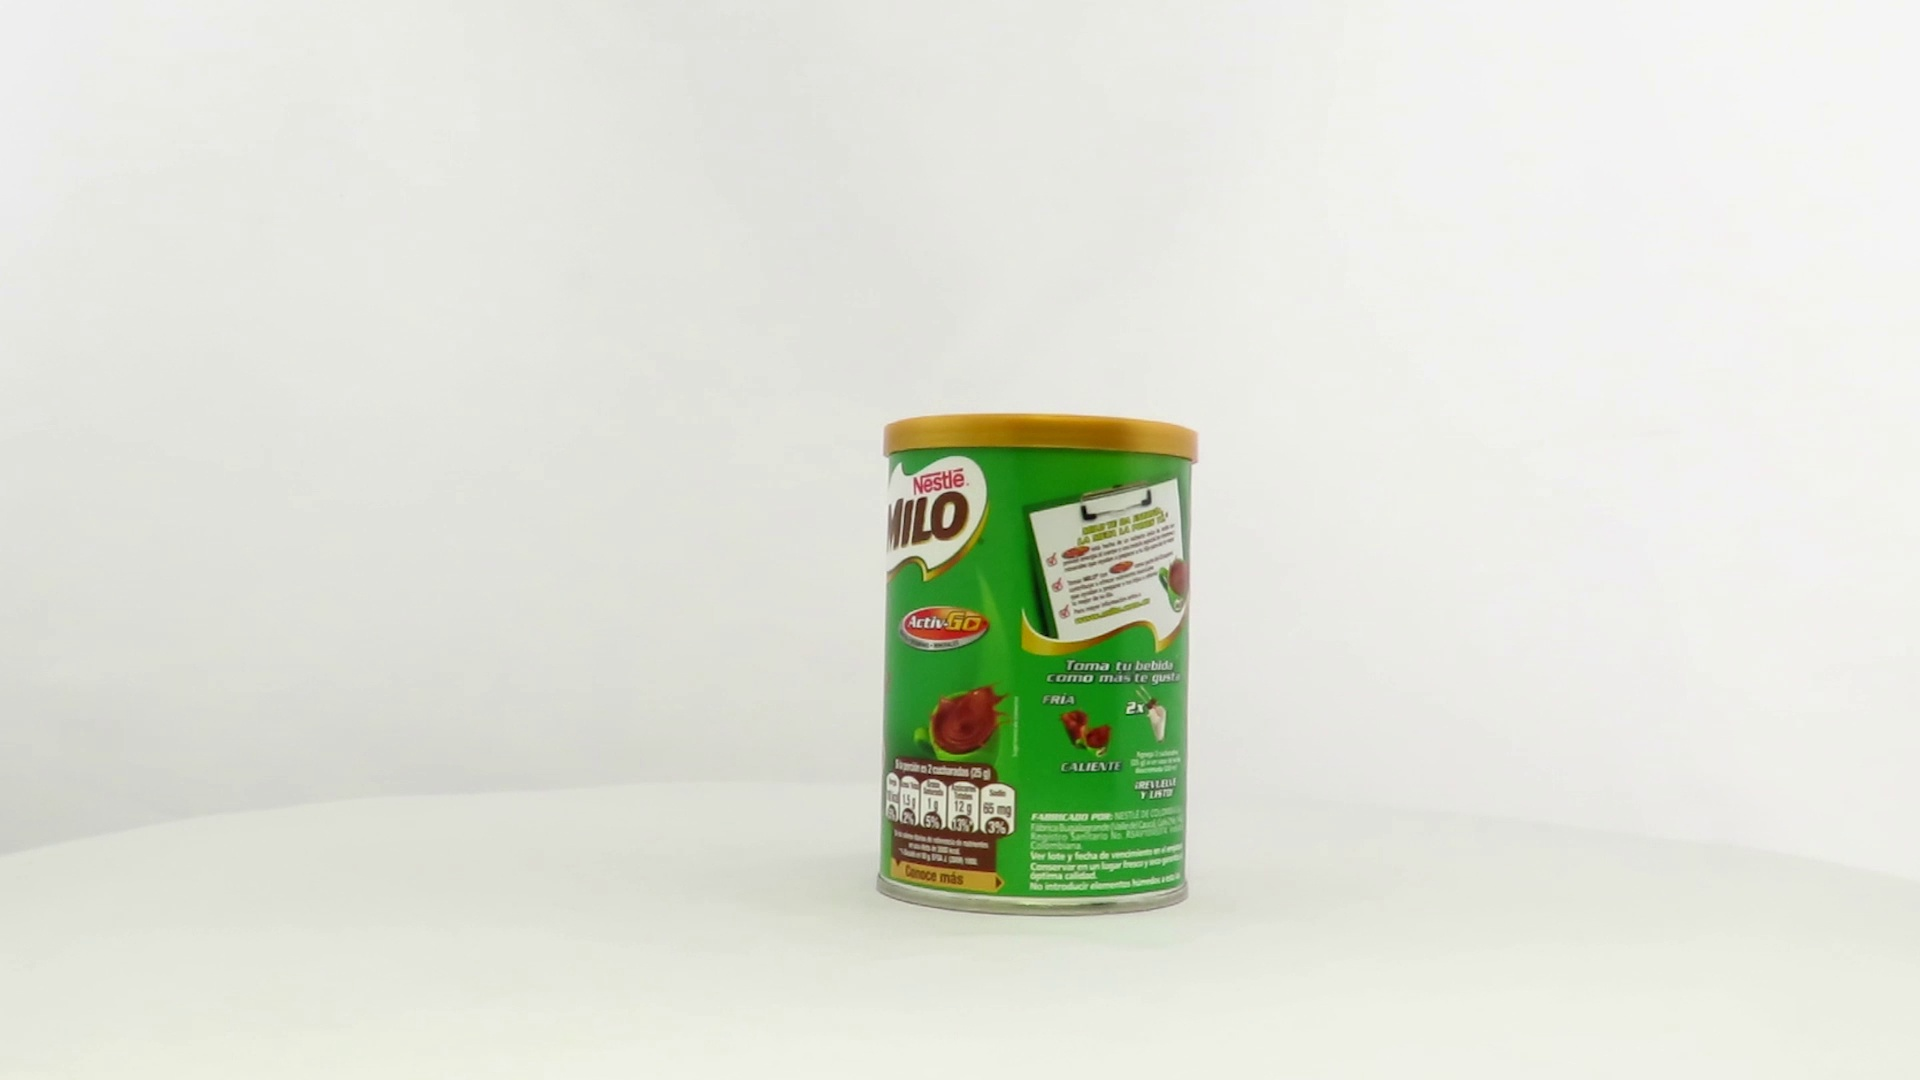COL0170203LAT20000: (870, 407, 1204, 923)
